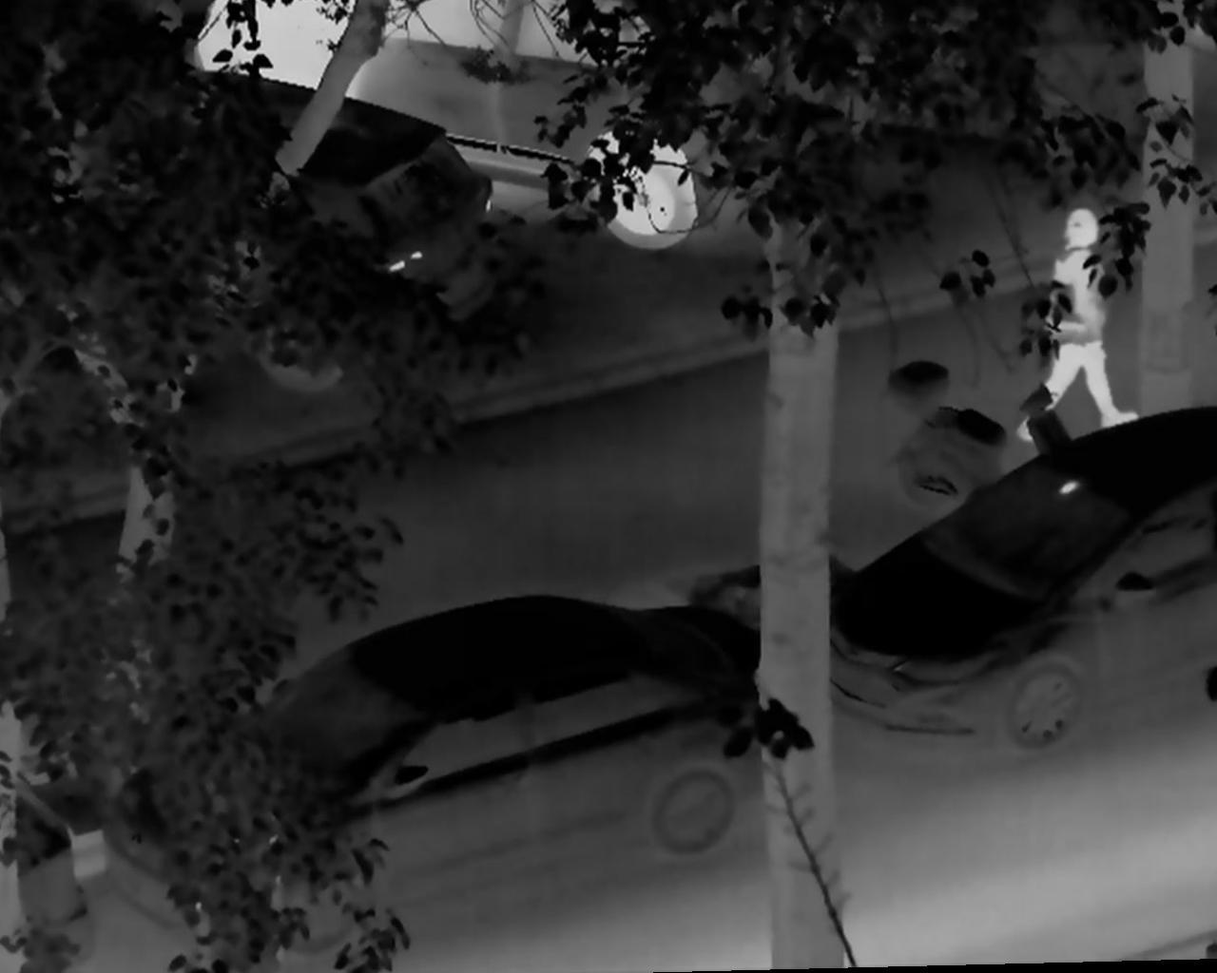person: (1016, 204, 1140, 450)
